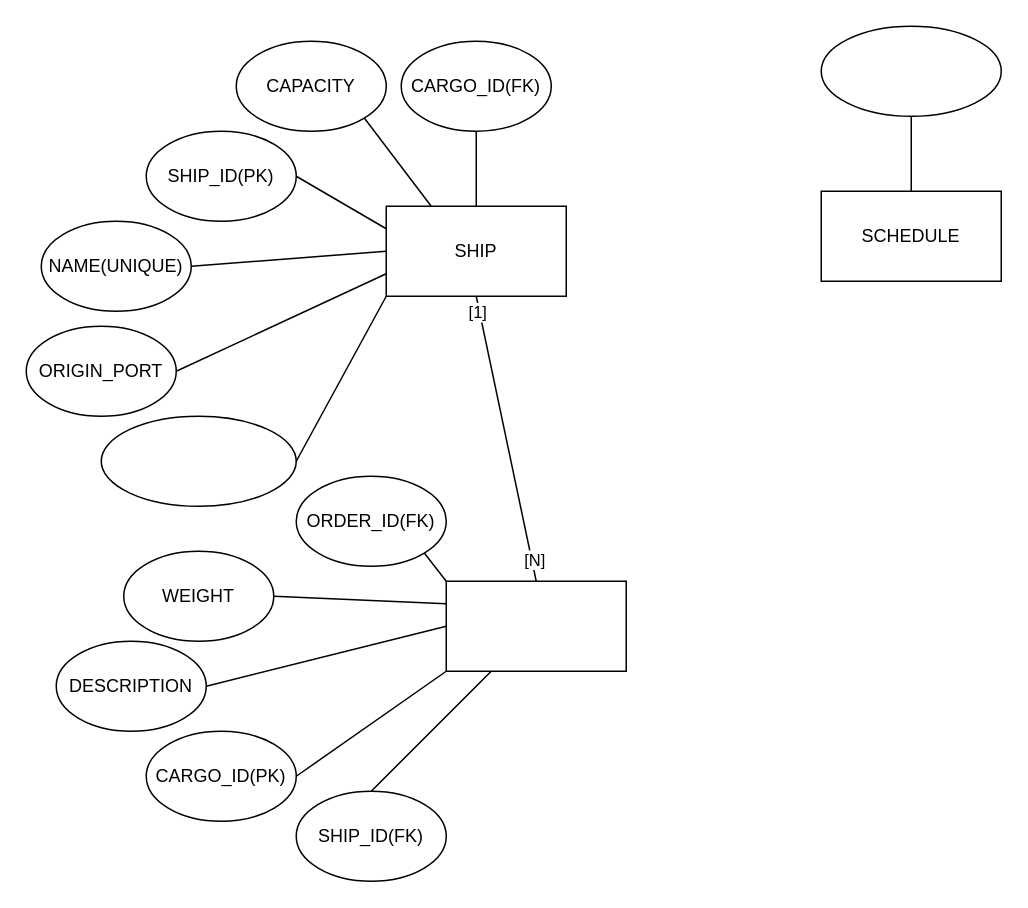
This 1028x908 diagram has some shape labels left out. The shapes that lost their labels are listed below. From the top down, each one's centre as x and y in pixels, then its label:
At (x=910, y=70): "SCHEDULE_ID(PK)".
At (x=198, y=460): "DESTINATION_PORT".
At (x=535, y=625): "CARGO".
